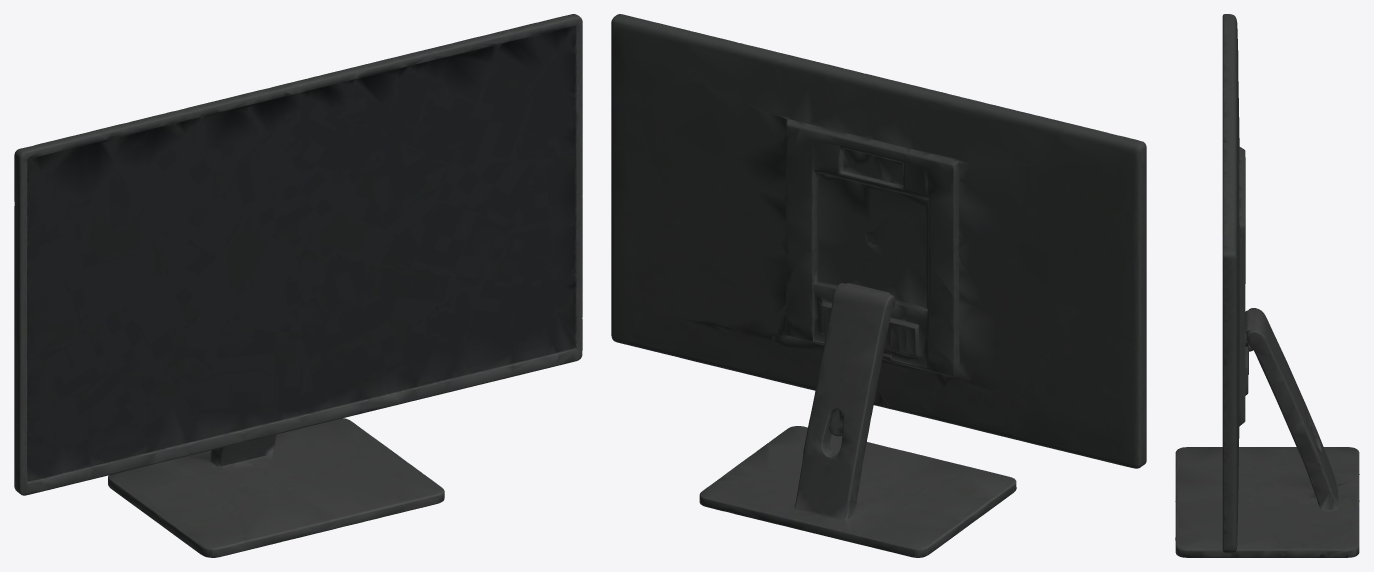
File: monitor.glb
The picture shows the model from 3 angles, left to right: view 1: azimuth 30°, elevation 25°; view 2: azimuth 150°, elevation 25°; view 3: azimuth 270°, elevation 25°; orthographic projection. The views are drawn at different scales.
Bounding box in the file's own units: 1.9 × 1.38 × 0.6138.
1 material, 1 textured.
